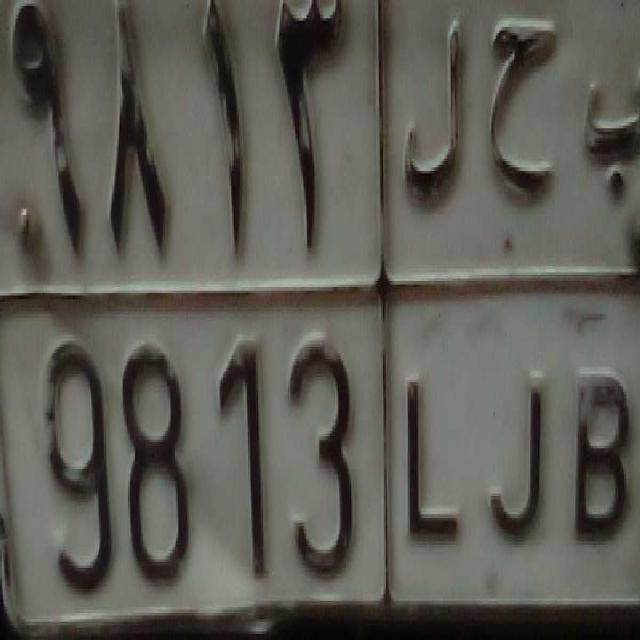license_plate: (0, 283, 640, 629)
